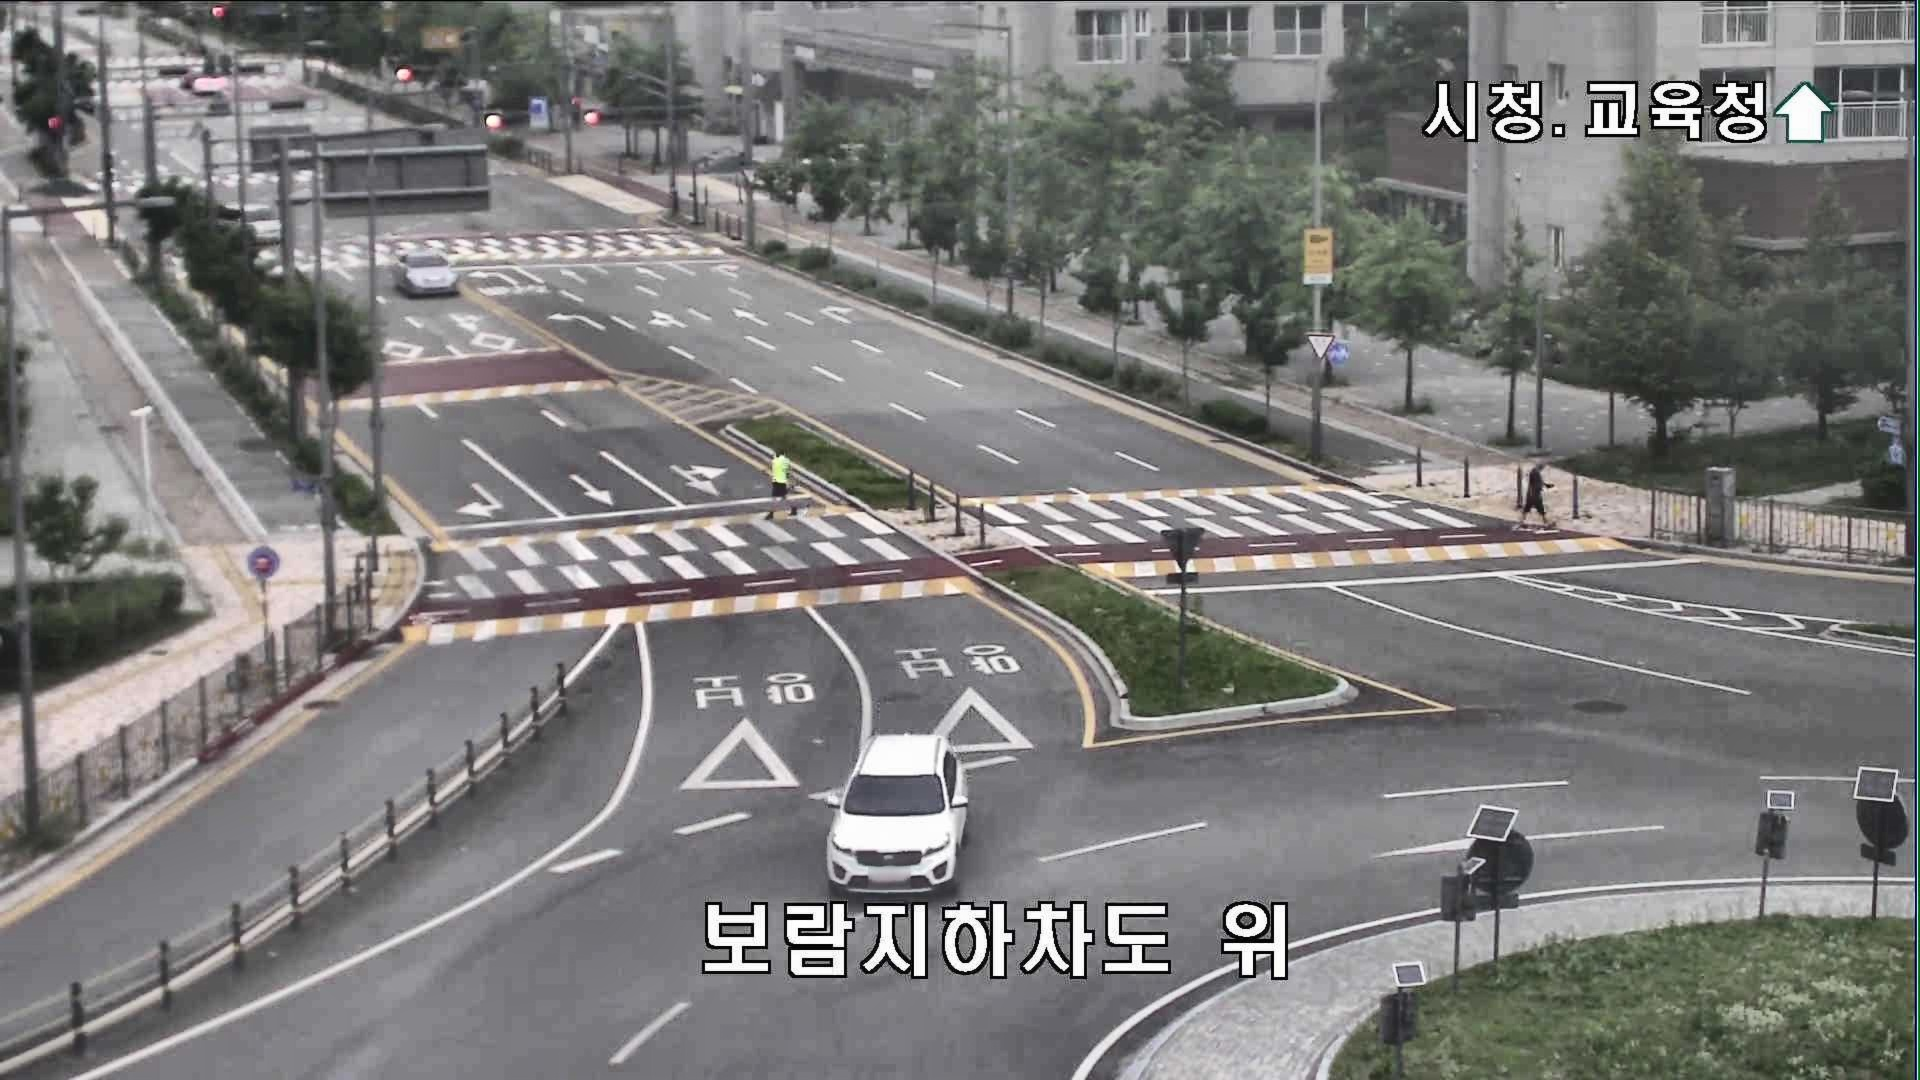crosswalk: (1514, 458, 1555, 530), (762, 442, 798, 522)
